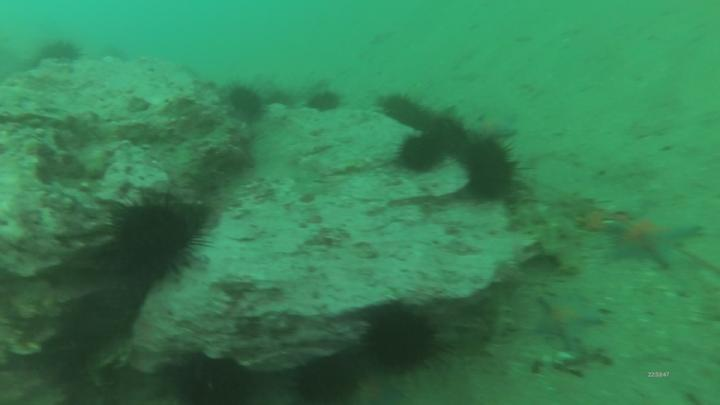echinus: (115, 209, 195, 276), (371, 310, 433, 365), (187, 359, 248, 403), (470, 143, 517, 199), (303, 363, 354, 405), (430, 118, 470, 149), (404, 139, 441, 171), (232, 87, 260, 119), (389, 100, 424, 124), (314, 93, 335, 112)
holothurian: (514, 192, 584, 268)
starfish: (612, 210, 689, 268), (535, 296, 600, 344), (478, 112, 517, 140), (576, 209, 618, 233)
